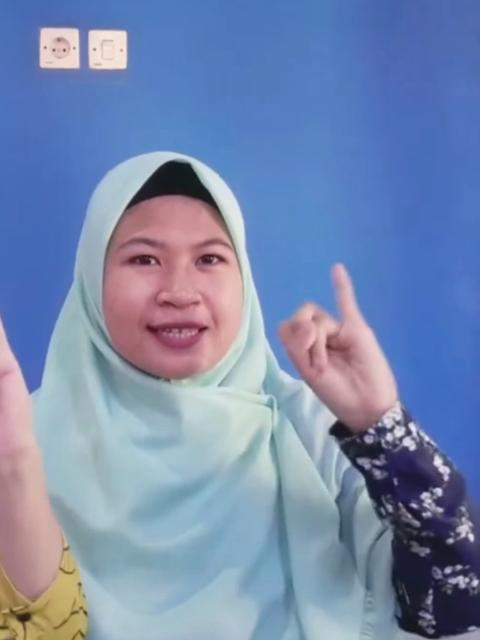I: (269, 260, 395, 422)
